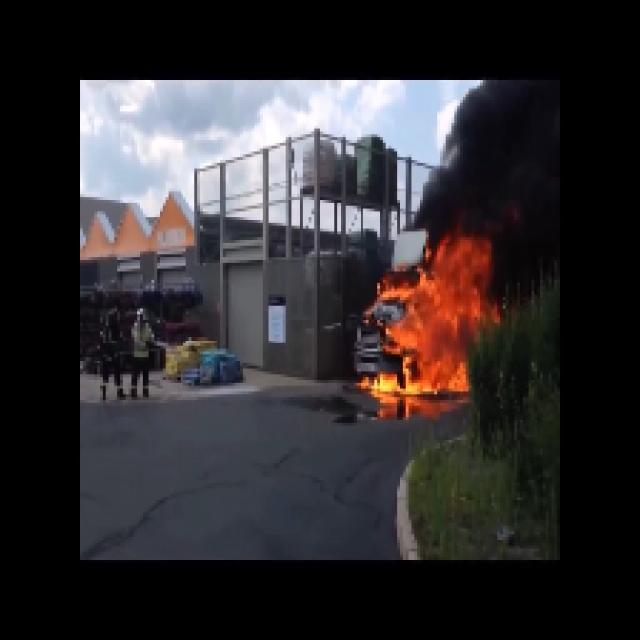fire: (375, 248, 485, 404)
smoke: (465, 80, 556, 274)
